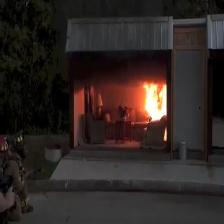fire: (143, 83, 166, 121)
